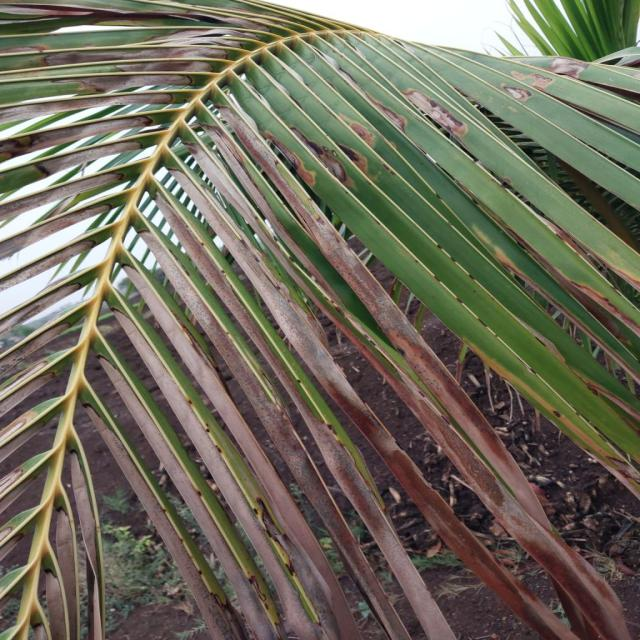gray leaf spot: (86, 88, 632, 640), (4, 11, 250, 256), (471, 44, 582, 120), (368, 73, 456, 161)
